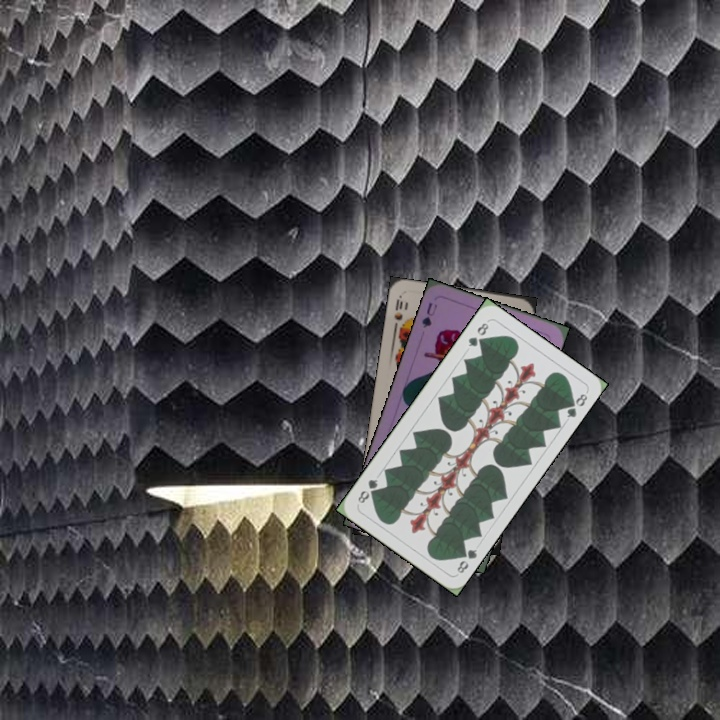G8: (453, 544, 480, 576), (464, 319, 491, 349)
GU: (417, 298, 440, 331)
S10: (390, 293, 405, 333)
